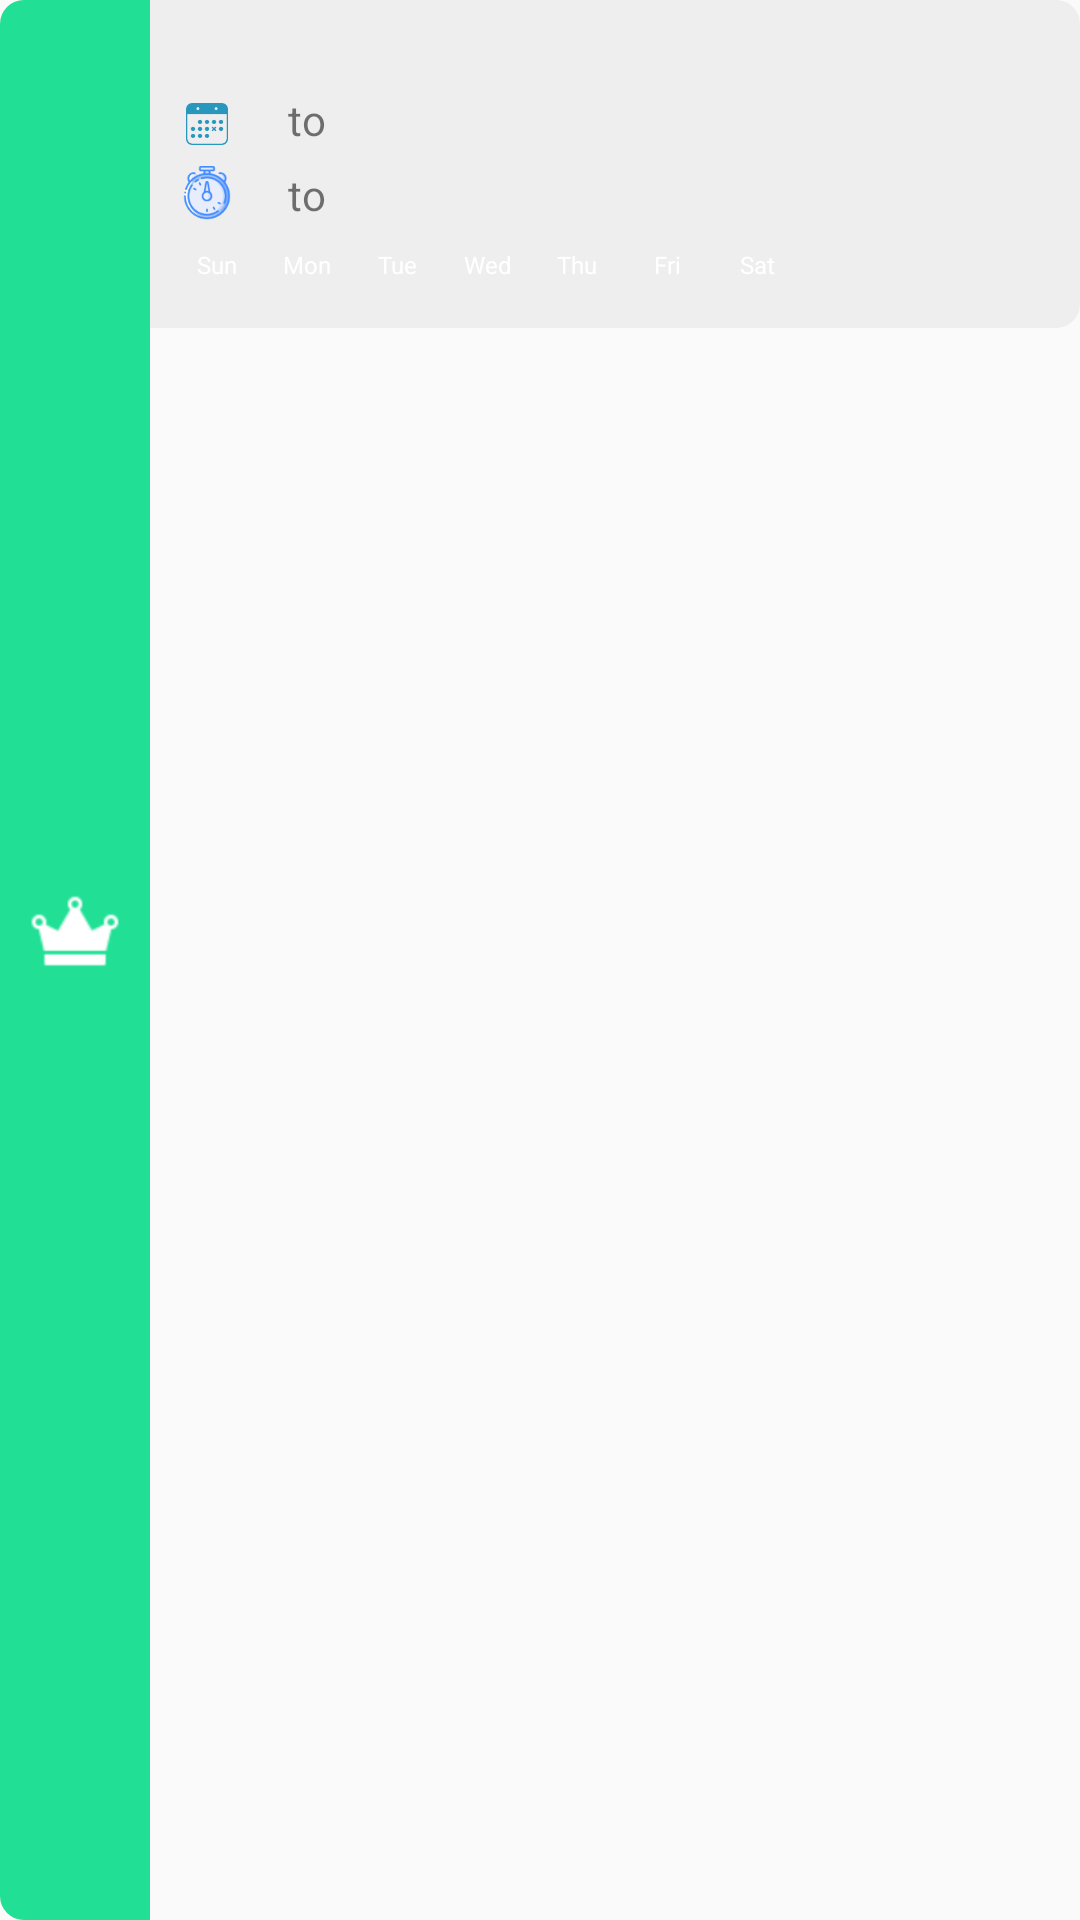

Icon click points for this 1080×1920 phone screenshot, format (x=x, y=y):
calendar: (x=207, y=124)
time: (x=207, y=193)
